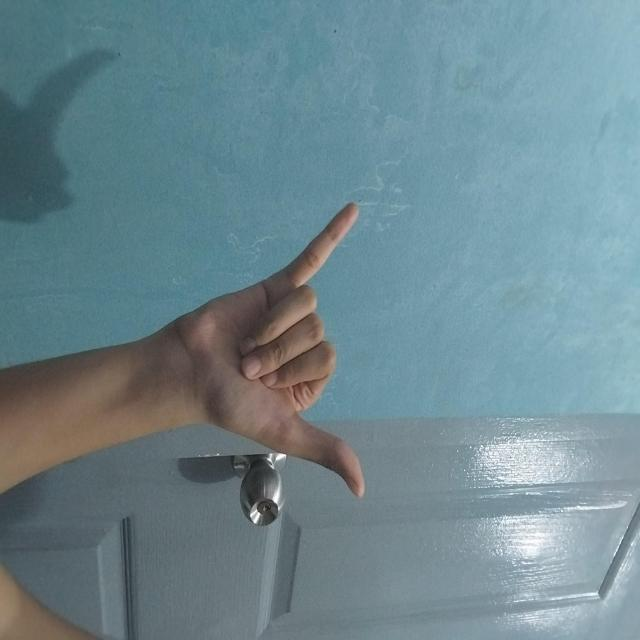Y: (195, 188, 412, 513)
